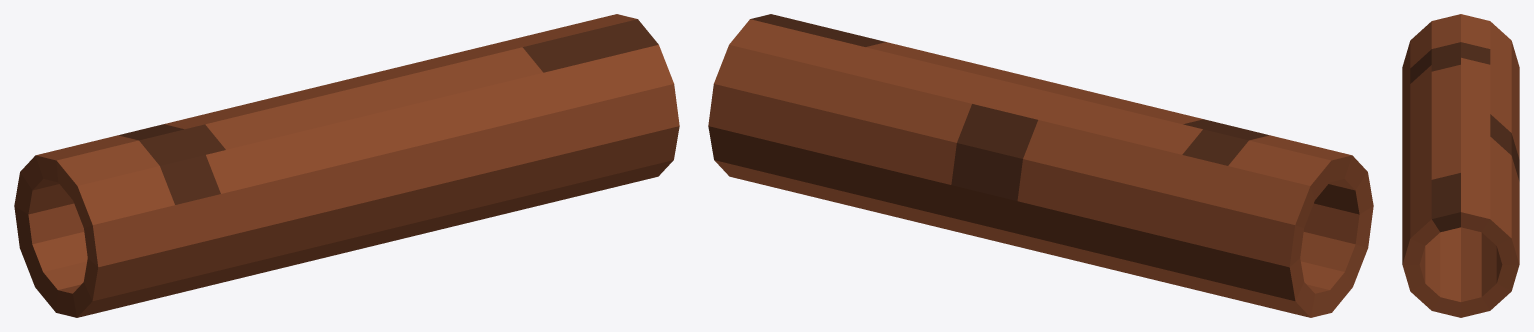
Rendered from copper bar.fbx.
The picture shows the model from 3 angles, left to right: view 1: azimuth 30°, elevation 25°; view 2: azimuth 150°, elevation 25°; view 3: azimuth 270°, elevation 25°; orthographic projection. The views are drawn at different scales.
Parts seen in each view (by area): view 1: Cylinder; view 2: Cylinder; view 3: Cylinder.
Boxes of the visible parts, box(x1,y1,x2,y2) form: Cylinder: box(14, 14, 679, 317); Cylinder: box(708, 14, 1373, 317); Cylinder: box(1402, 14, 1519, 317).
Bounding box in the file's own units: 800 × 201 × 200.
